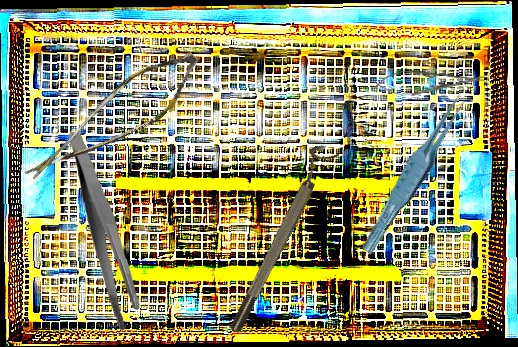Dressing Forceps: (68, 130, 141, 331)
Fixation Ring: (218, 140, 340, 336)
Micro Scissor: (24, 25, 208, 216)
Needle Holder: (374, 66, 486, 98)
Tissue Forceps: (349, 89, 482, 257)
